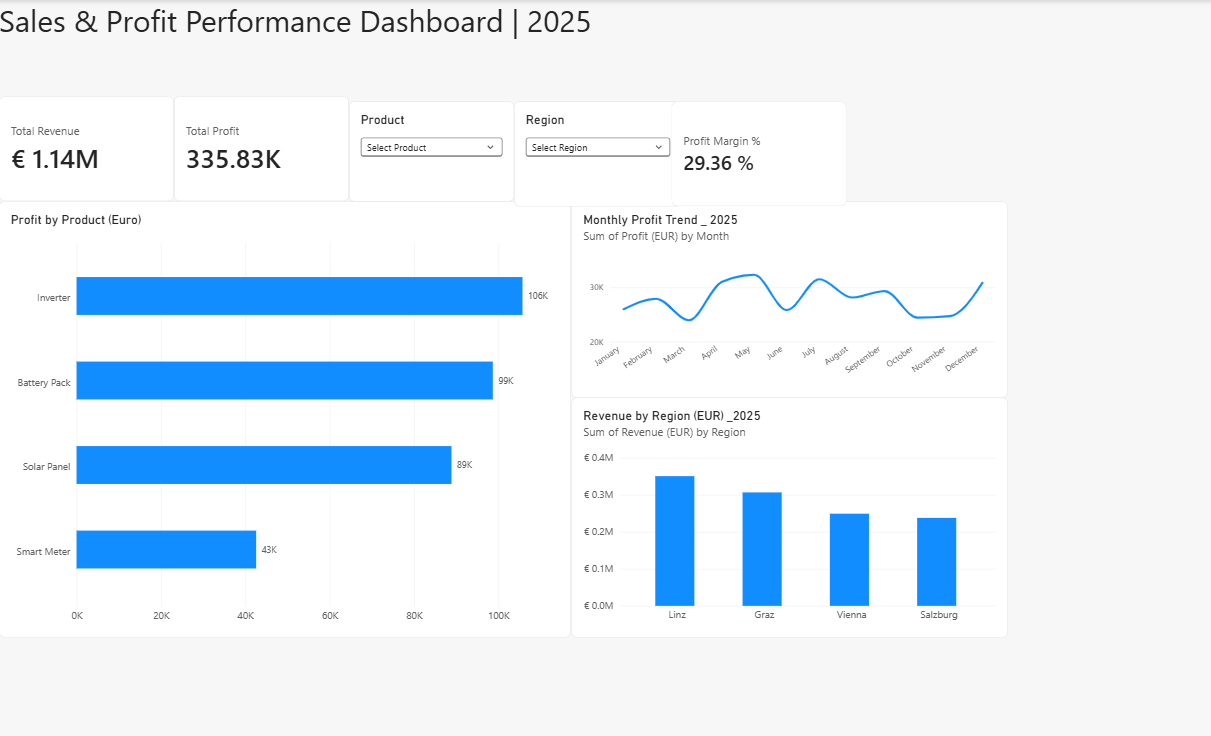

The dashboard page shown, as its layout file describes it:
{"tool":"powerbi","page":{"name":"Page 1","canvas":[1920,1080],"ordinal":0},"visuals":[{"type":"cardVisual","fields":{"Data":["Sum(SalesPracticeData.Revenue (EUR))"]},"box":[0,137.9,250,150],"z":0},{"type":"cardVisual","fields":{"Data":["Sum(SalesPracticeData.Profit (EUR))"]},"box":[250,137.5,250,150],"z":1000},{"type":"clusteredBarChart","title":"Profit by Product (Euro)","fields":{"Category":["SalesPracticeData.Product"],"Y":["Sum(SalesPracticeData.Profit (EUR))"]},"box":[0,287.5,817,623],"z":2000},{"type":"lineChart","title":"Monthly Profit Trend _ 2025","fields":{"Category":["SalesPracticeData.Month.Variation.Date Hierarchy.Year","SalesPracticeData.Month.Variation.Date Hierarchy.Quarter","SalesPracticeData.Month.Variation.Date Hierarchy.Month","SalesPracticeData.Month.Variation.Date Hierarchy.Day"],"Y":["Sum(SalesPracticeData.Profit (EUR))"]},"box":[817.9,287.5,623,280.9],"z":3000},{"type":"clusteredColumnChart","title":"Revenue by Region (EUR) _2025","fields":{"Category":["SalesPracticeData.Region"],"Y":["Sum(SalesPracticeData.Revenue (EUR))"]},"box":[817.9,567.9,623.2,342.9],"z":4000},{"type":"listSlicer","fields":{"Values":["SalesPracticeData.Region"]},"box":[735.7,144.6,240,150.6],"z":5000},{"type":"textbox","box":[0,0,903.8,137.9],"z":6000},{"type":"cardVisual","fields":{"Data":["SalesPracticeData.Profit Margin %"]},"box":[960.7,144.6,250,150],"z":6001},{"type":"listSlicer","fields":{"Values":["SalesPracticeData.Product"]},"box":[500,144.6,235.7,142.9],"z":6003}]}

Visuals, with their boxes on the page's 1920x1080 design canvas (x1, y1, x2, y2). These are canvas units, not pixel positions in the 1211x736 screenshot, which may show the page scaled, cropped or inside an application window:
cardVisual - Sum(SalesPracticeData.Revenue (EUR)): detection(0, 138, 250, 288)
cardVisual - Sum(SalesPracticeData.Profit (EUR)): detection(250, 138, 500, 288)
"Profit by Product (Euro)" clusteredBarChart: detection(0, 288, 817, 910)
"Monthly Profit Trend _ 2025" lineChart: detection(818, 288, 1441, 568)
"Revenue by Region (EUR) _2025" clusteredColumnChart: detection(818, 568, 1441, 911)
listSlicer - SalesPracticeData.Region: detection(736, 145, 976, 295)
textbox: detection(0, 0, 904, 138)
cardVisual - SalesPracticeData.Profit Margin %: detection(961, 145, 1211, 295)
listSlicer - SalesPracticeData.Product: detection(500, 145, 736, 288)
